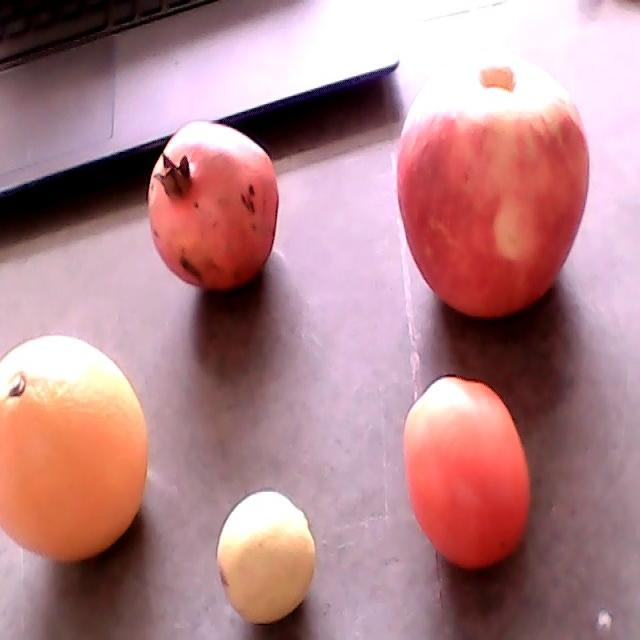apple: (396, 49, 590, 320)
lemon: (216, 489, 315, 625)
orange: (0, 333, 150, 562)
pomegranate: (147, 119, 280, 289)
tomato: (404, 375, 530, 571)
